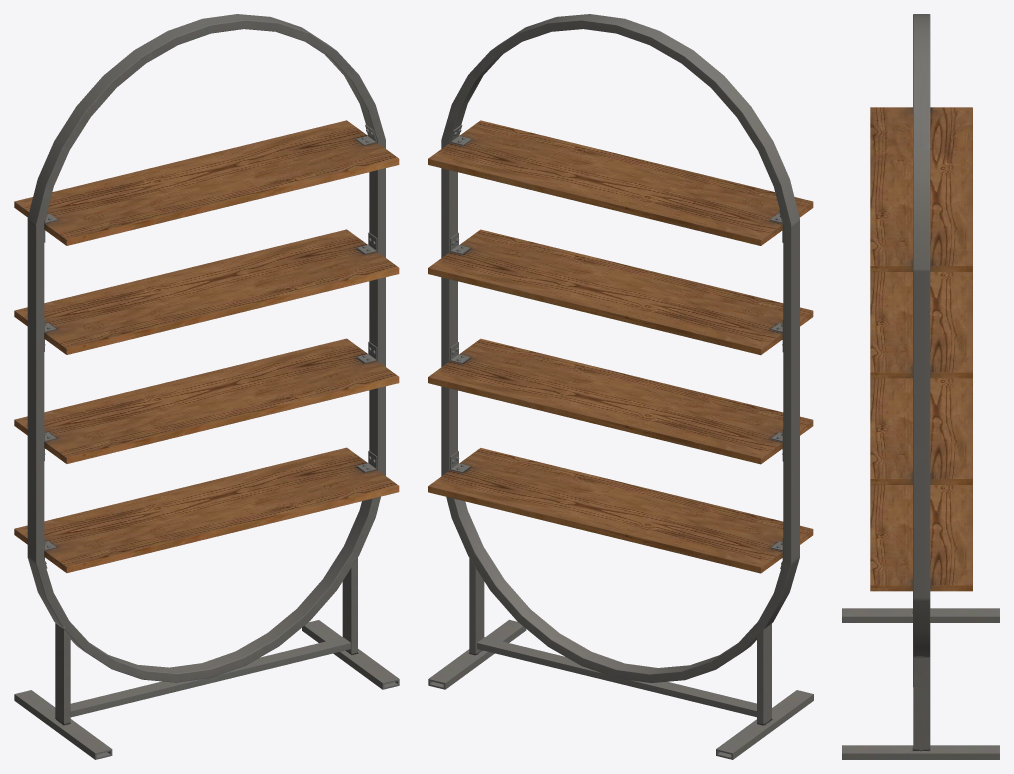
Rendered from shelf.glb.
The picture shows the model from 3 angles, left to right: view 1: azimuth 30°, elevation 25°; view 2: azimuth 150°, elevation 25°; view 3: azimuth 270°, elevation 25°; orthographic projection. The views are drawn at different scales.
Visible parts, largest first — view 1: shelfs, body, legs.001, legs, legs.002; view 2: shelfs, body, legs.001, legs, legs.002, catcher; view 3: shelfs, body, legs.001, legs.002.
Part boxes in pixels (x1,y1,x2,y2): shelfs: [14, 120, 399, 572]; body: [27, 14, 385, 682]; legs.001: [14, 620, 399, 759]; legs: [70, 637, 350, 717]; legs.002: [55, 558, 357, 724]; shelfs: [428, 120, 813, 573]; body: [441, 14, 799, 682]; legs.001: [428, 619, 813, 759]; legs: [477, 637, 756, 717]; legs.002: [469, 557, 771, 725]; catcher: [450, 232, 783, 461]; shelfs: [870, 107, 972, 591]; body: [913, 14, 930, 686]; legs.001: [842, 608, 999, 759]; legs.002: [913, 657, 930, 750].
Bounding box in the file's own units: 1.16 × 2.12 × 0.4623.
9 materials, 9 textured.
